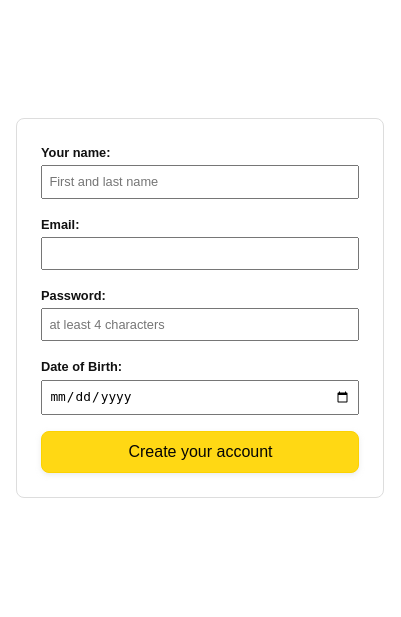
Test: The Invalid Date of Birth users.
Type "test" into the field with id "username" at (200, 182), box [41,165,359,198]
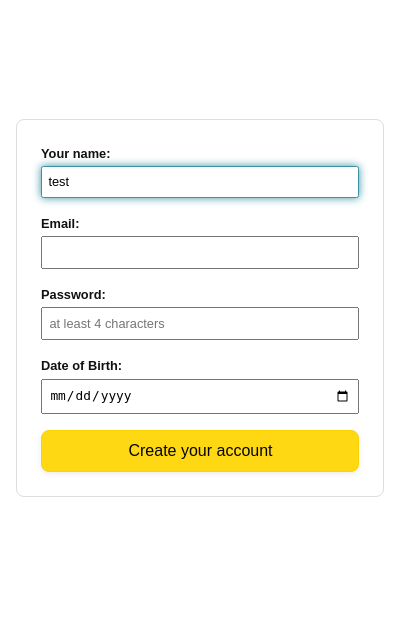
Type "mindaugas@mindaugas.com" into the field with id "email" at (200, 253), box [41,236,359,269]
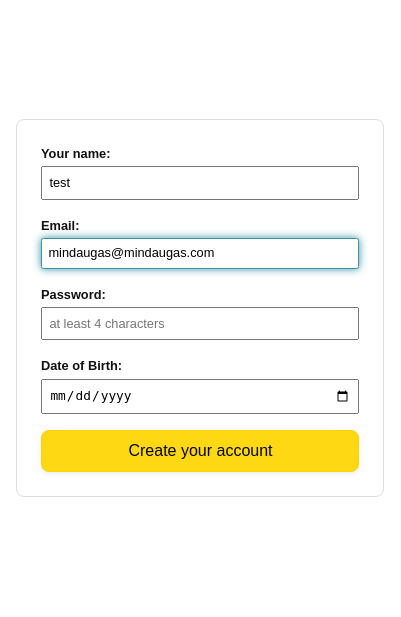
Type "mind" into the password field labelled "Password:" at (200, 324), box [41,307,359,340]
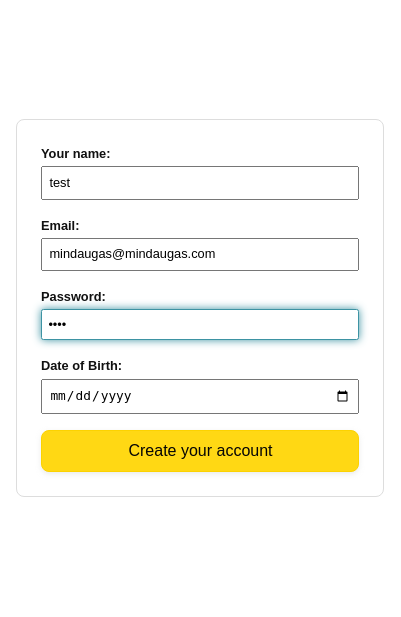
Type "2024-06-17" into the date field with id "dob" at (200, 397), box [41,379,359,414]
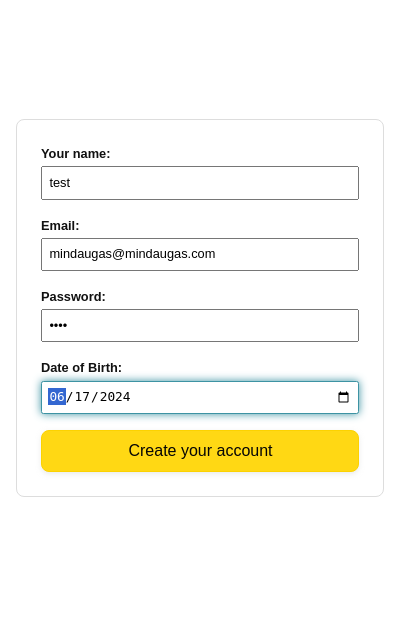
Click the button "Create your account" at (200, 451), box [41,430,359,472]
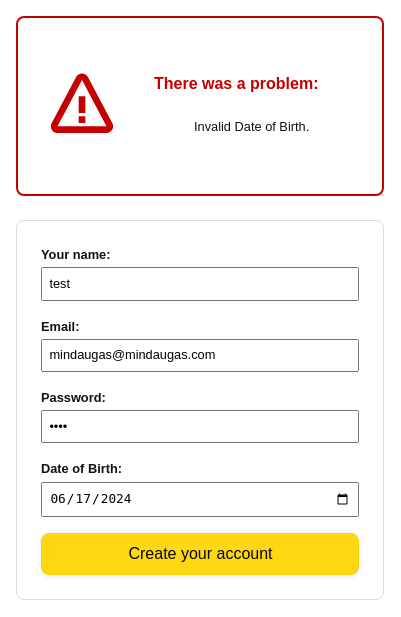
Expected: the element with id "error" is shown, [154,75,319,134]
Expected: the heading "There was a problem:" is shown, [154,76,318,92]
Expected: the list item "Invalid Date of Birth." is shown, [194,119,309,134]
